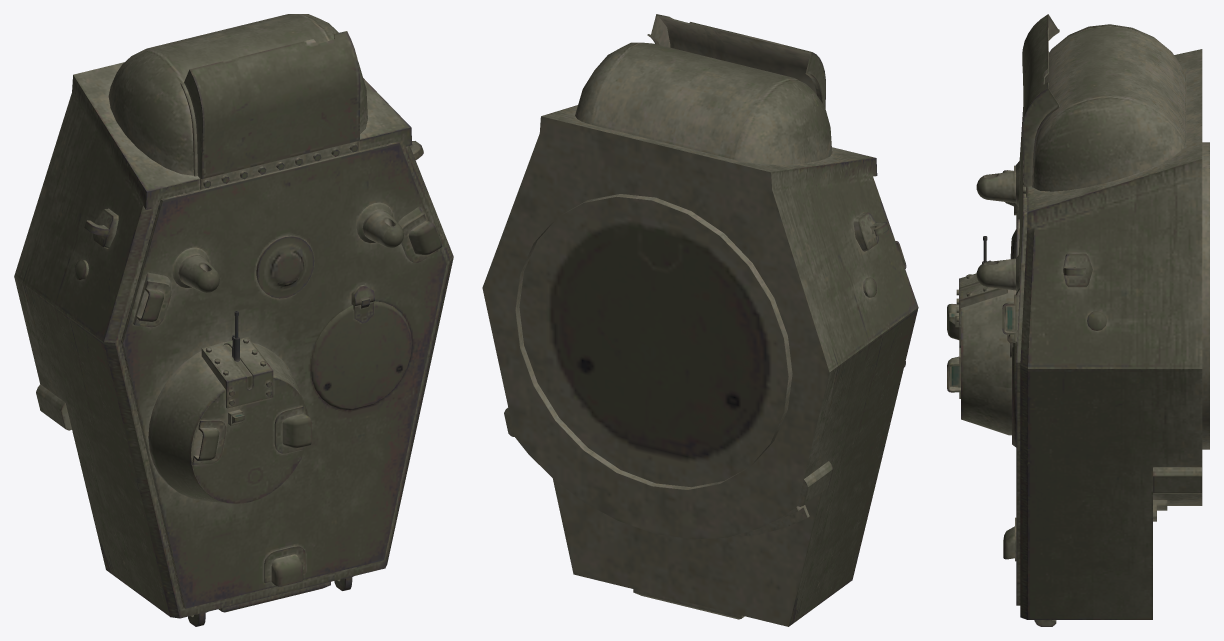
The model's file is Turret_01.glb.
The picture shows the model from 3 angles, left to right: view 1: azimuth 30°, elevation 25°; view 2: azimuth 150°, elevation 25°; view 3: azimuth 270°, elevation 25°; orthographic projection. The views are drawn at different scales.
Parts seen in each view (by area): view 1: set_0_group_0; view 2: set_0_group_0; view 3: set_0_group_0.
Part boxes in pixels (x1,y1,x2,y2): set_0_group_0: (14, 14, 453, 626); set_0_group_0: (482, 14, 918, 626); set_0_group_0: (947, 14, 1209, 626).
Bounding box in the file's own units: 2.35 × 3.56 × 1.57.
1 material, 1 textured.
